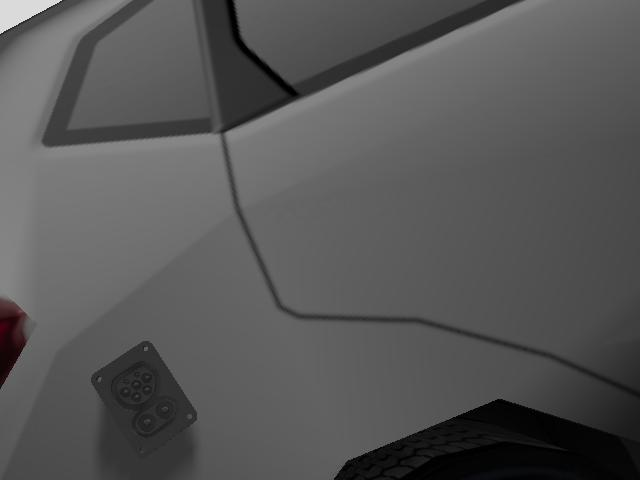EV-socket: (87, 337, 200, 465)
